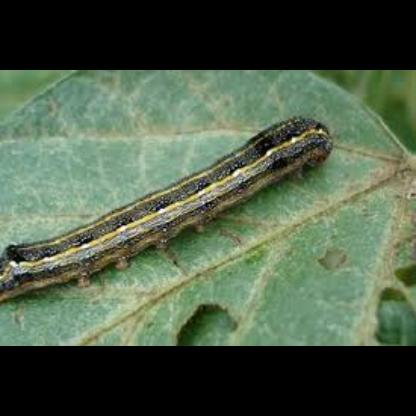oruga: (0, 112, 338, 304)
